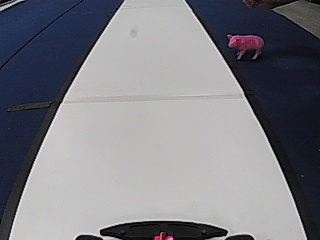pig: (224, 30, 265, 60)
